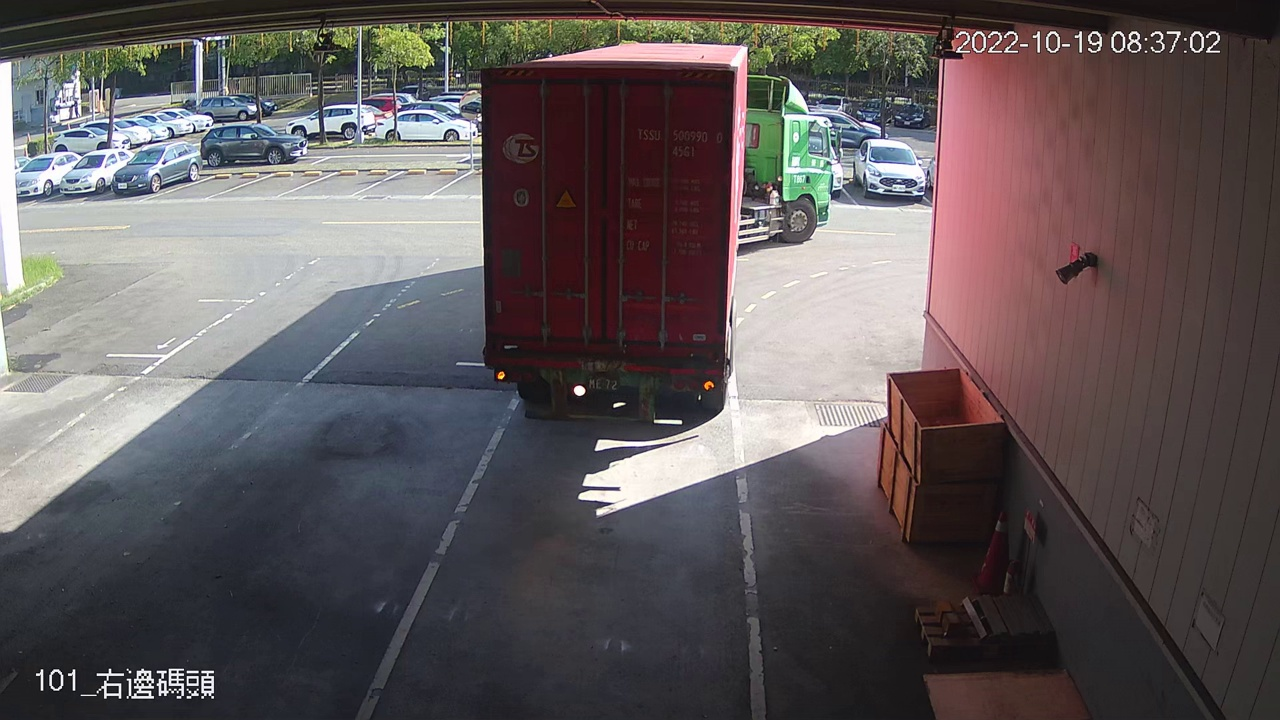container: (631, 123, 727, 162)
